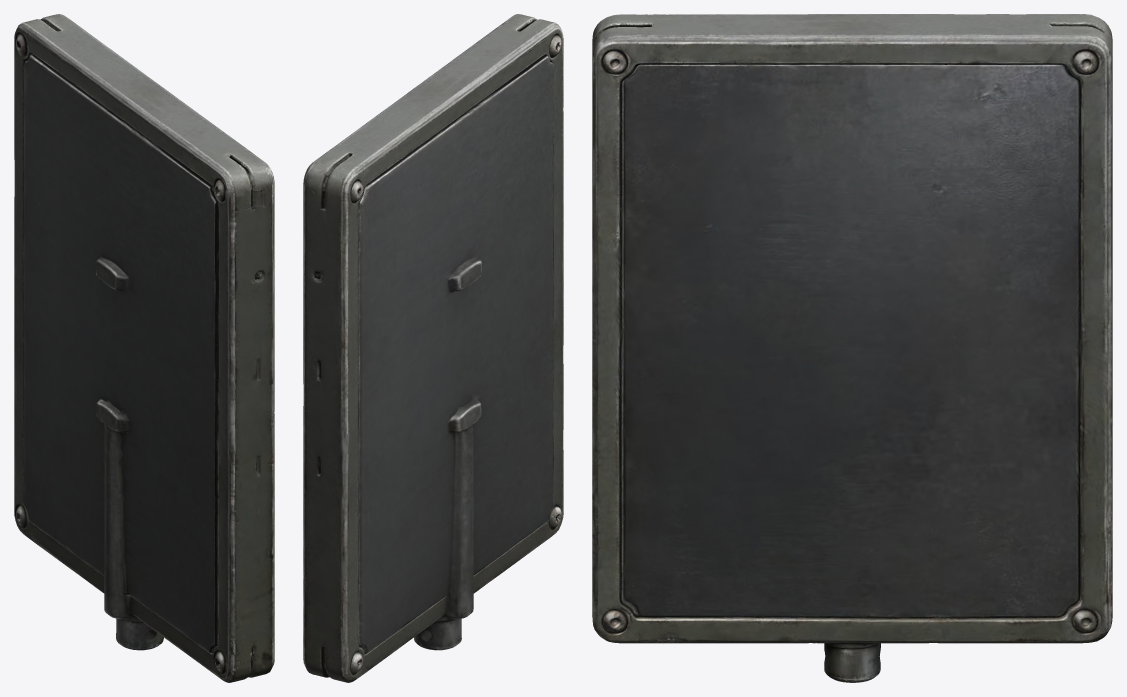
File: plate.glb
3 views of the same model, side by side, from view 1: azimuth 30°, elevation 25°; view 2: azimuth 150°, elevation 25°; view 3: azimuth 270°, elevation 25° (orthographic). The views are drawn at different scales.
Parts seen in each view (by area): view 1: tripo_node_8a781780-7ad6-4555-8f75-11a9888bb989; view 2: tripo_node_8a781780-7ad6-4555-8f75-11a9888bb989; view 3: tripo_node_8a781780-7ad6-4555-8f75-11a9888bb989.
Boxes of the visible parts, left/top/right/bottom form: tripo_node_8a781780-7ad6-4555-8f75-11a9888bb989: left=14, top=14, right=274, bottom=682; tripo_node_8a781780-7ad6-4555-8f75-11a9888bb989: left=303, top=14, right=563, bottom=682; tripo_node_8a781780-7ad6-4555-8f75-11a9888bb989: left=592, top=14, right=1112, bottom=682.
Size of the model in its own units: 0.1184 by 0.977 by 0.7085.
Materials: 1 (1 with a texture image).
